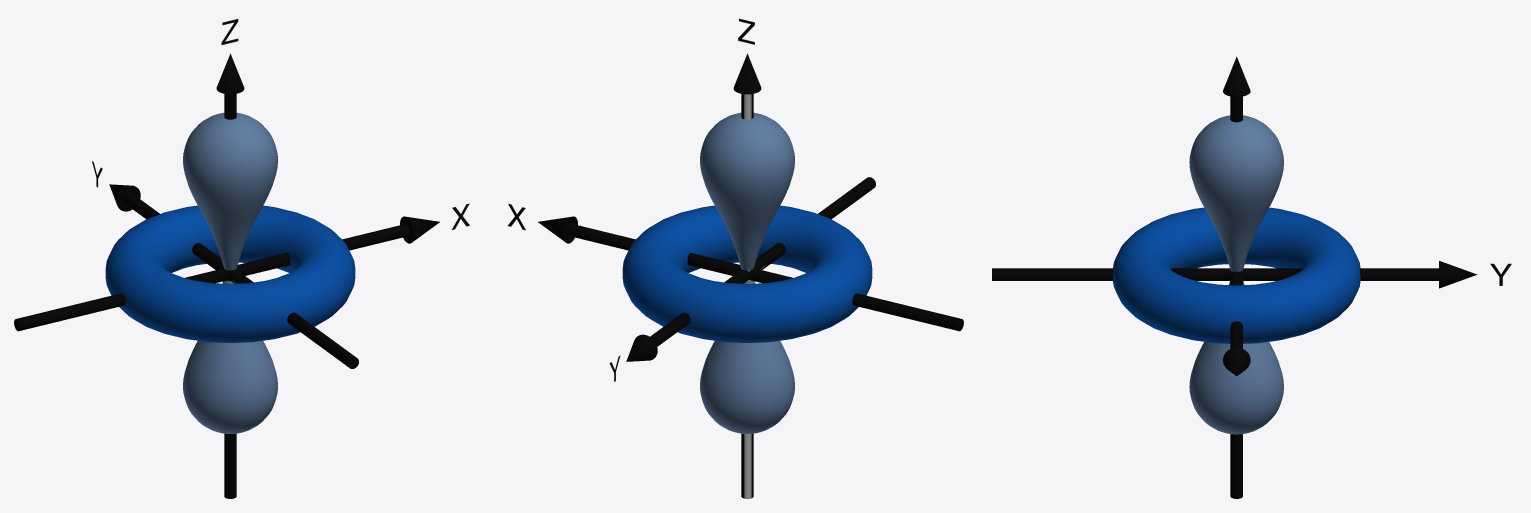
3 views of the same model, side by side, from view 1: azimuth 30°, elevation 25°; view 2: azimuth 150°, elevation 25°; view 3: azimuth 270°, elevation 25° (orthographic).
Visible parts, largest first — view 1: D_Orbital; view 2: D_Orbital; view 3: D_Orbital.
Boxes of the visible parts, left/top/right/bottom form: D_Orbital: left=14, top=53, right=439, bottom=498; D_Orbital: left=538, top=53, right=963, bottom=498; D_Orbital: left=992, top=56, right=1477, bottom=498.
Bounding box in the file's own units: 93.5 × 93.5 × 93.5.
2 materials, 2 textured.
